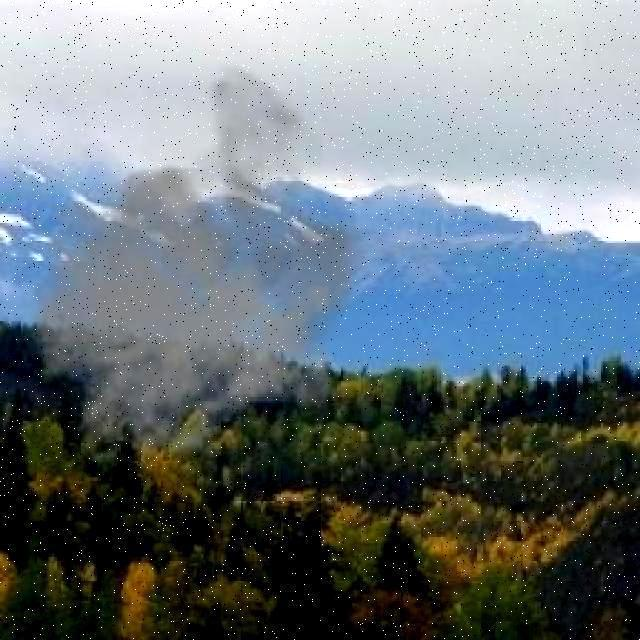no_helmet: (49, 90, 408, 478)
